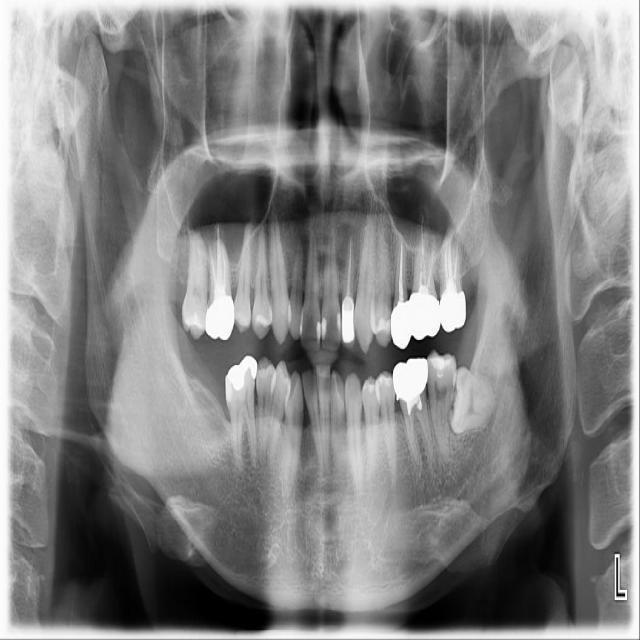Crown: (390, 293, 441, 349), (392, 357, 428, 409), (205, 295, 235, 341), (440, 292, 466, 333), (340, 297, 356, 347)
Filling: (224, 356, 258, 402), (430, 357, 455, 377), (371, 319, 390, 332)
Root Canal Treatment: (210, 250, 218, 297), (217, 229, 222, 292), (399, 248, 405, 300), (220, 243, 226, 294), (422, 215, 426, 280), (348, 242, 352, 298), (427, 250, 432, 285), (453, 244, 458, 276), (444, 248, 447, 279), (420, 254, 423, 281), (448, 240, 450, 273)
impacted tooth: (451, 368, 493, 431)
